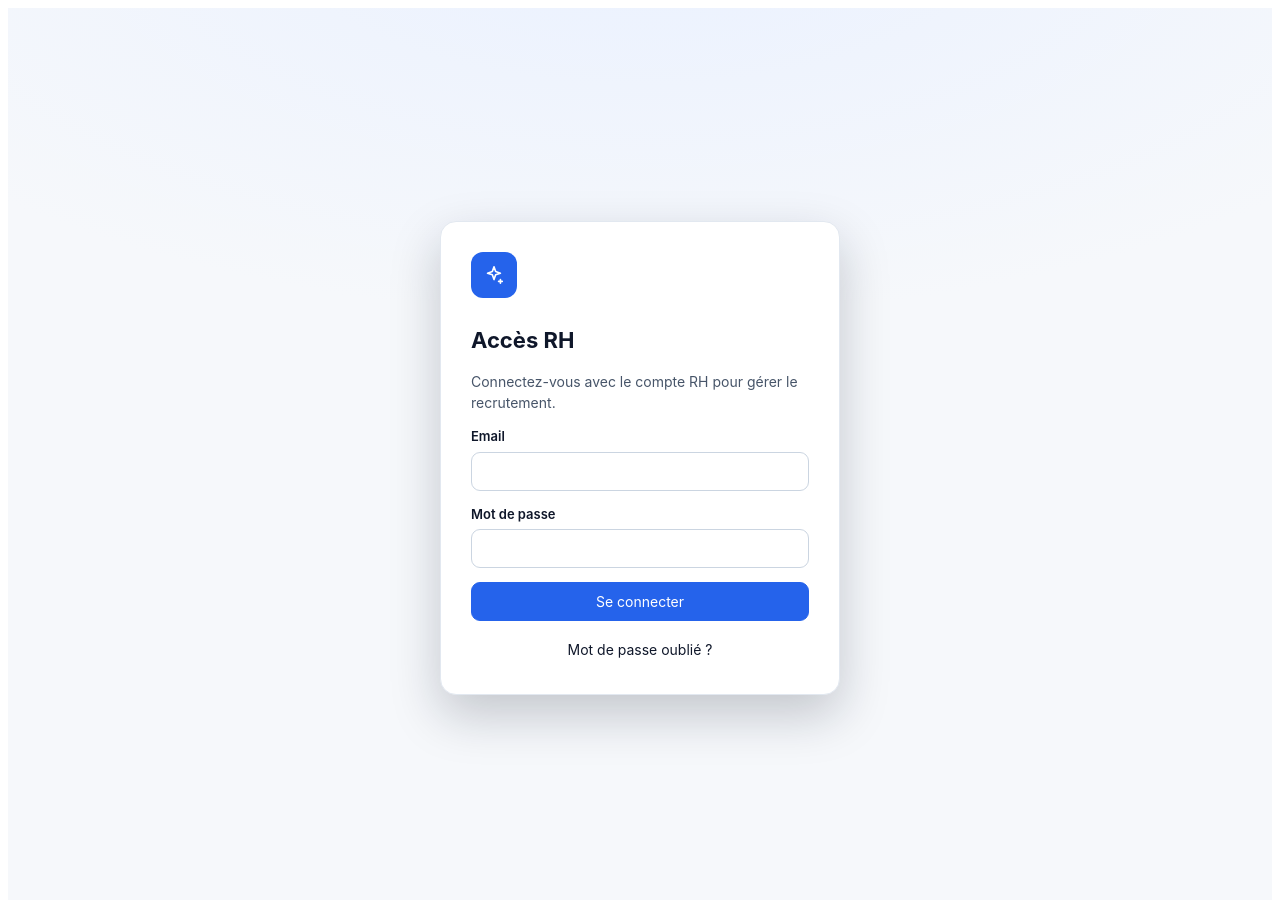
Scenario: a login attempt while no account exists switches to account creation
Check: the heading "Accès RH" is shown, box [471, 327, 574, 353]
In the field labelled "Email": (640, 471) [471, 452, 809, 490], type "rh@techzone.lat"
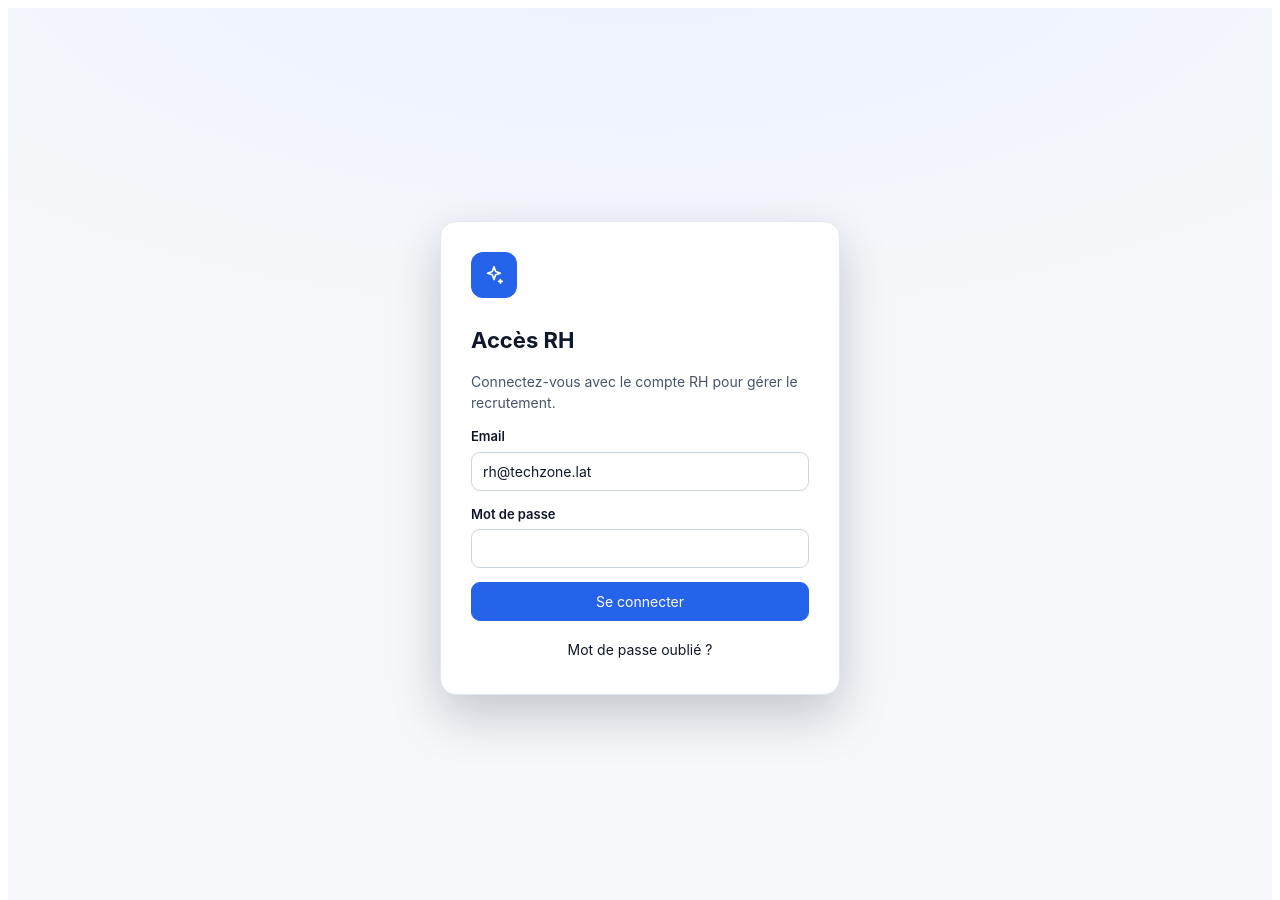
In the password field labelled "Mot de passe": (640, 548) [471, 529, 809, 568], type "MotDePasse2026"
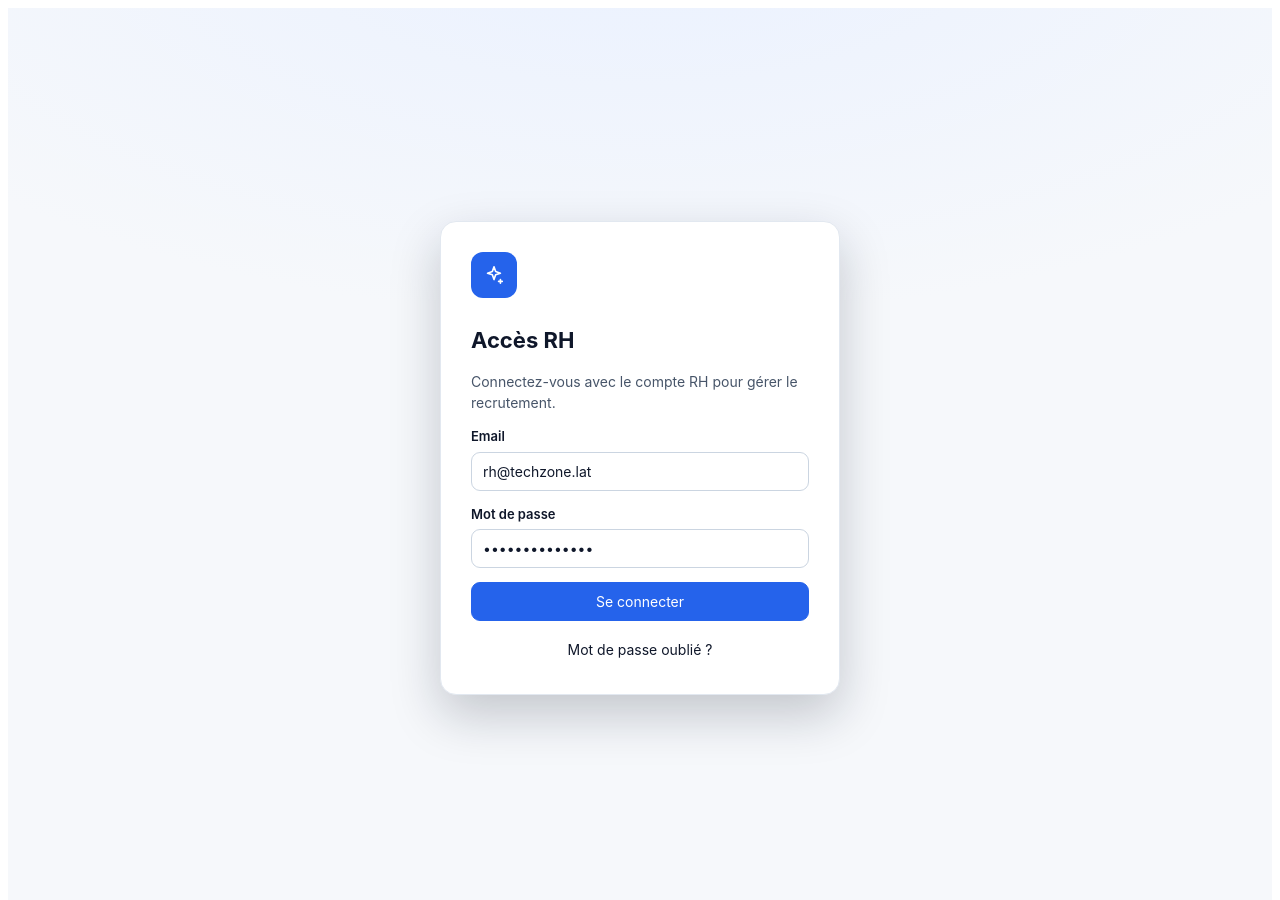
Click the button "Se connecter": (640, 602) [471, 582, 809, 621]
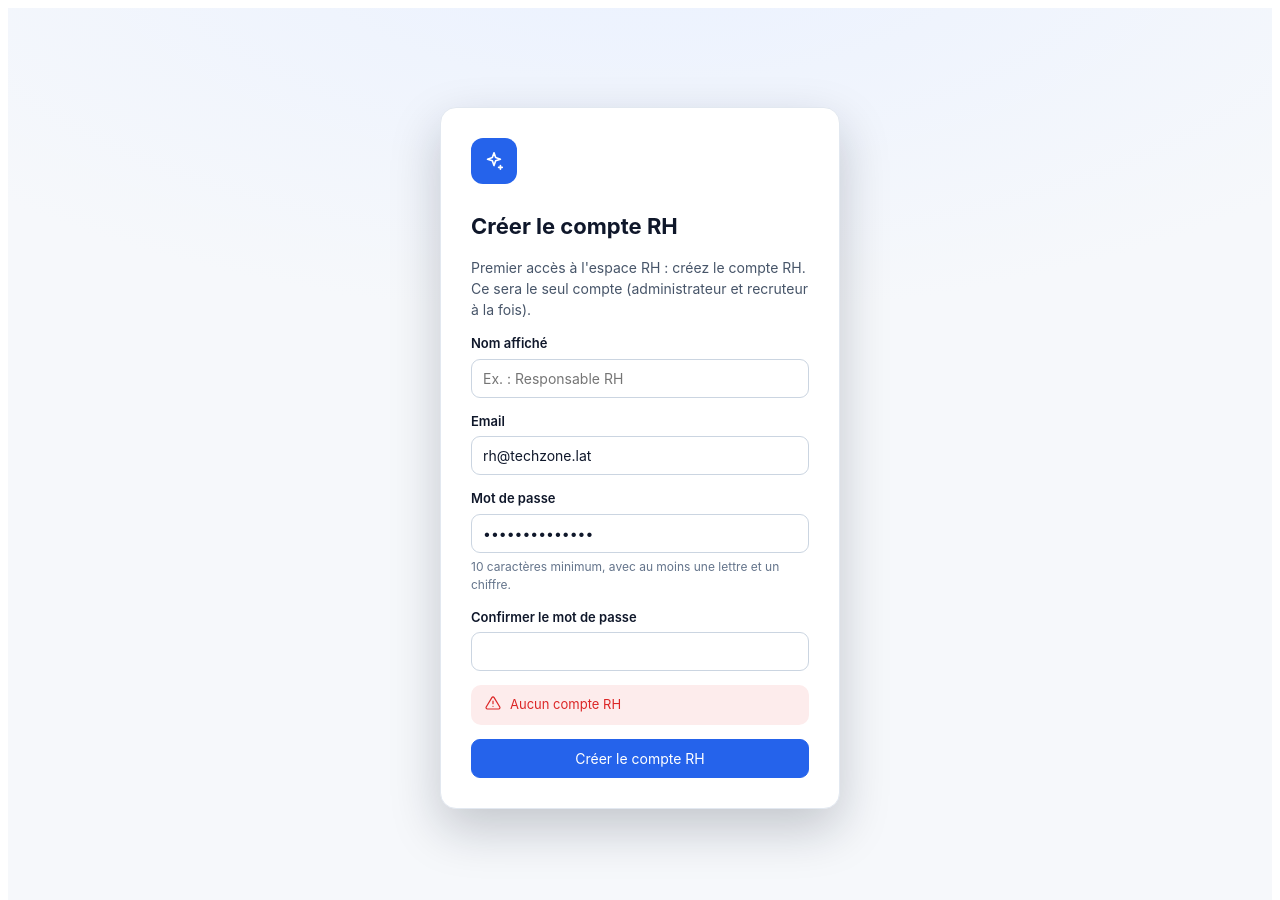
Check: the heading "Créer le compte RH" is shown, box [471, 213, 678, 239]
